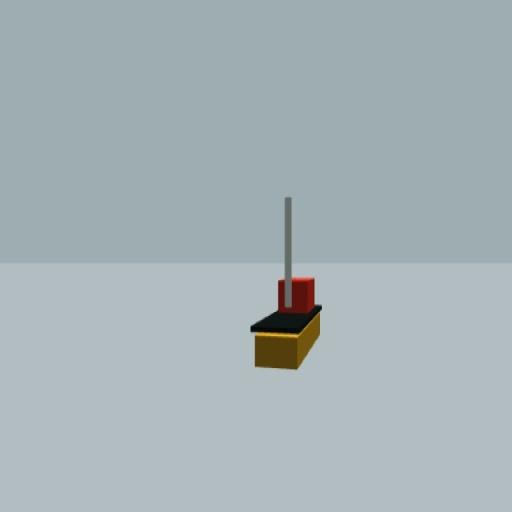vessel: (248, 195, 324, 371)
